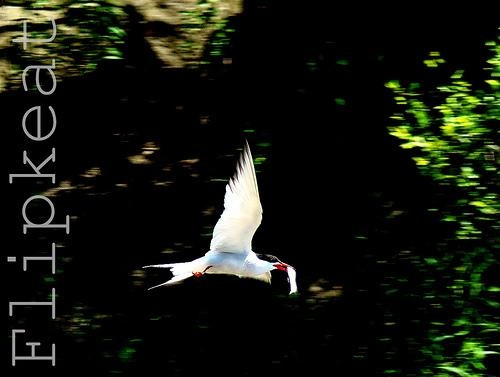bird: (134, 139, 303, 296)
